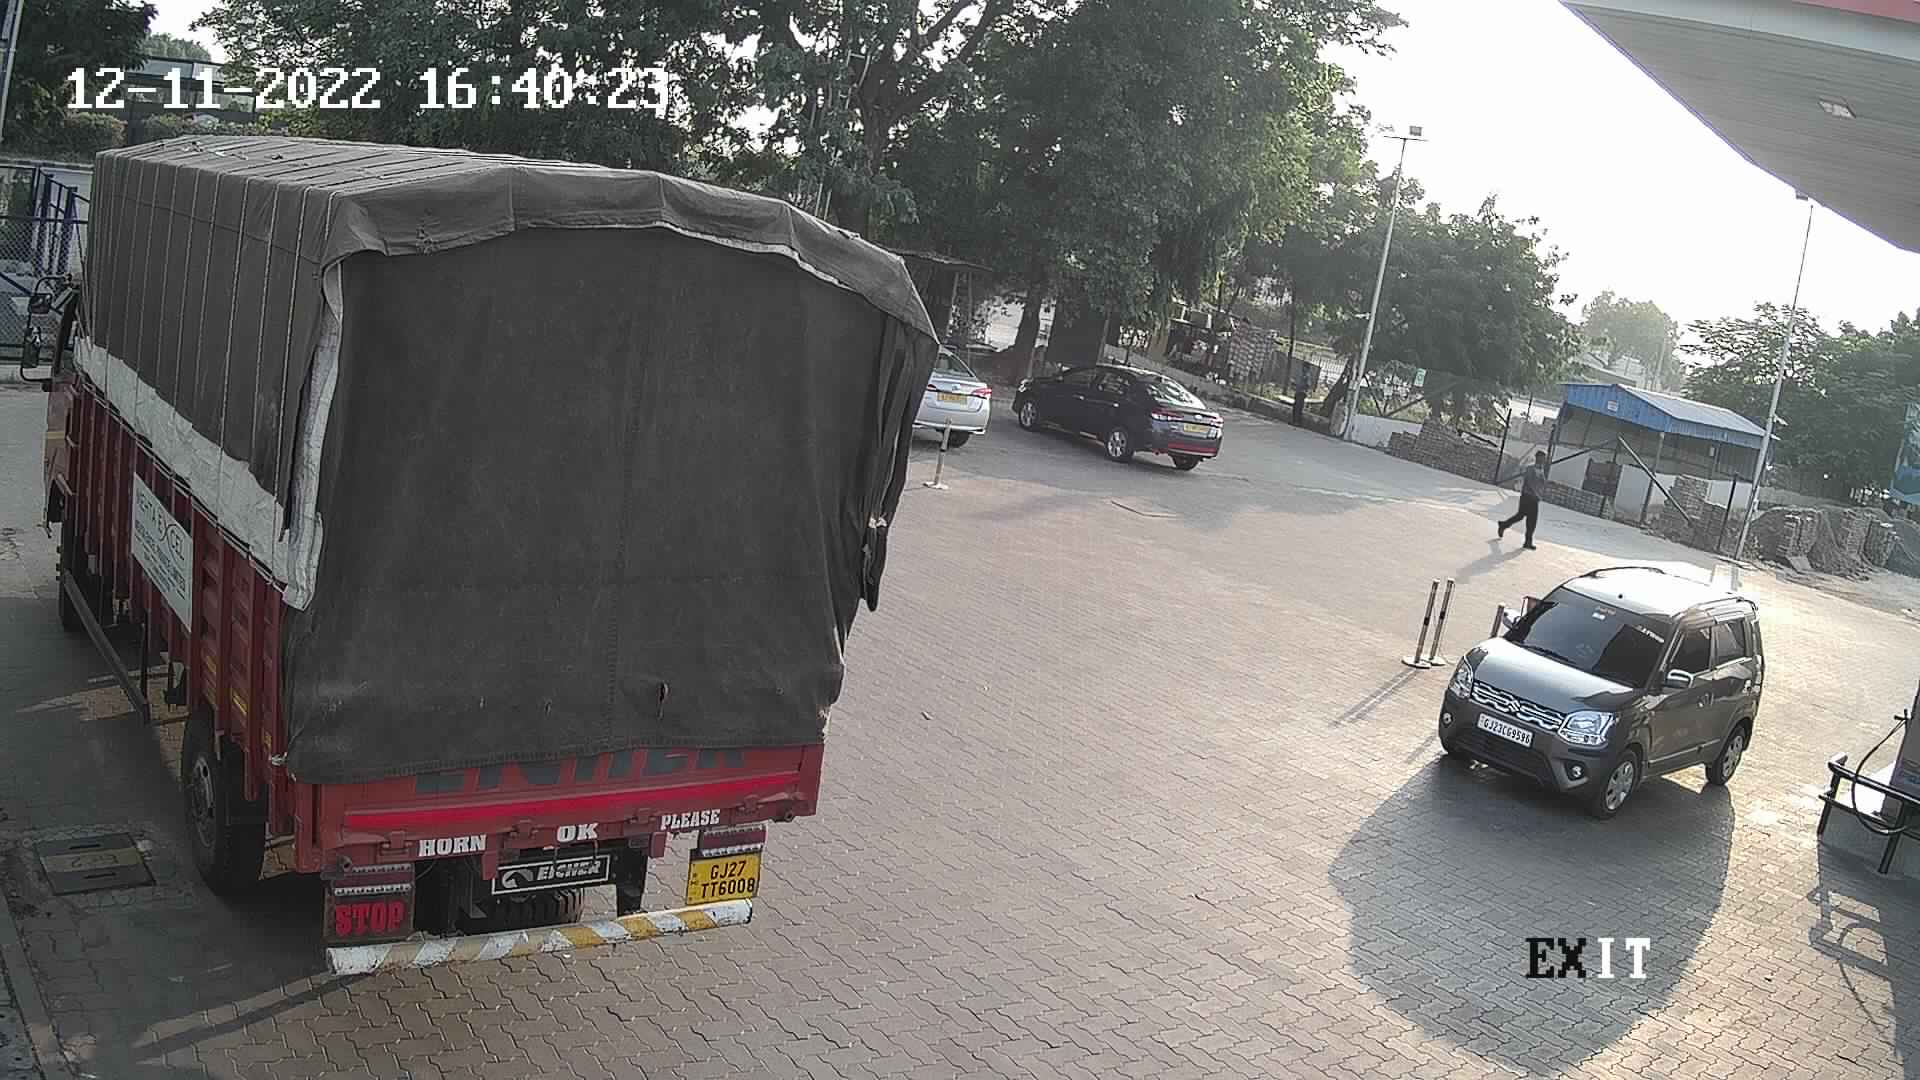Car: (1411, 539, 1785, 819), (1005, 343, 1236, 476), (887, 330, 1000, 465)
HMV: (0, 94, 993, 986)
